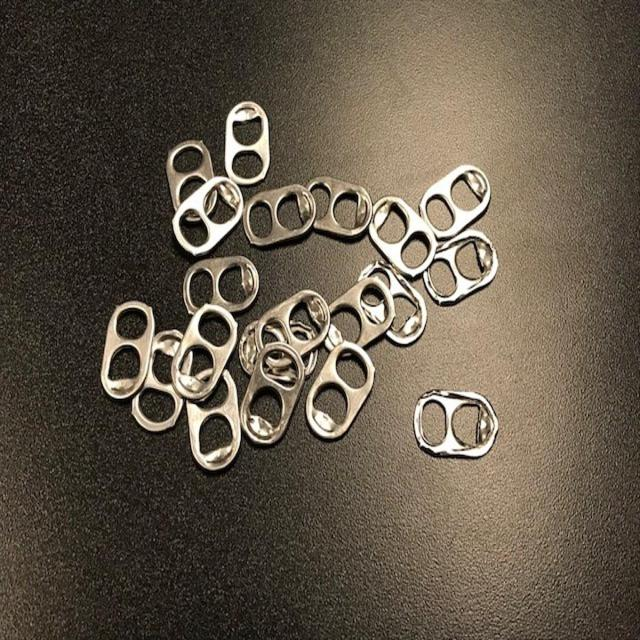pop tab: (306, 340, 376, 442), (241, 341, 306, 448), (130, 327, 193, 434), (170, 301, 238, 400), (412, 388, 499, 462), (422, 226, 499, 307), (356, 262, 428, 348), (367, 195, 438, 278), (186, 367, 241, 472), (100, 300, 156, 402), (173, 175, 243, 256), (420, 163, 493, 240), (256, 289, 331, 363), (322, 278, 393, 354), (297, 173, 373, 240), (181, 256, 260, 316), (244, 184, 317, 248), (164, 140, 218, 222), (224, 100, 269, 184)
